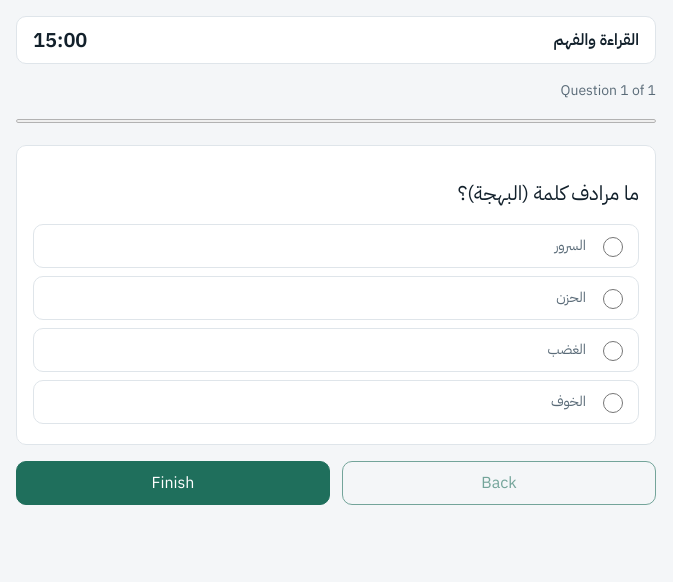
Test: answering › sends one save for a burst of taps, not one per tap
The image size is (673, 582).
// A student changing their mind twice before settling.
Step 1. Click the radio button labelled "الحزن" → (613, 299), box top-left (603, 289), bottom-right (623, 309)
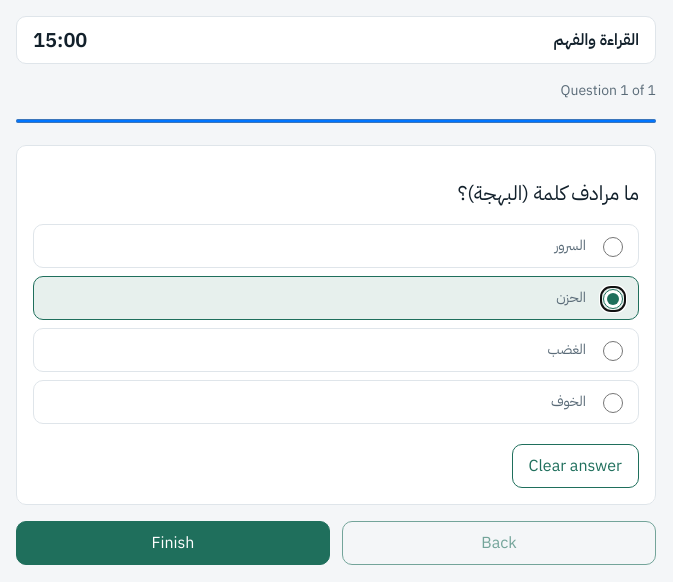
Step 2. Click the radio button labelled "الغضب" → (613, 351), box top-left (603, 341), bottom-right (623, 361)
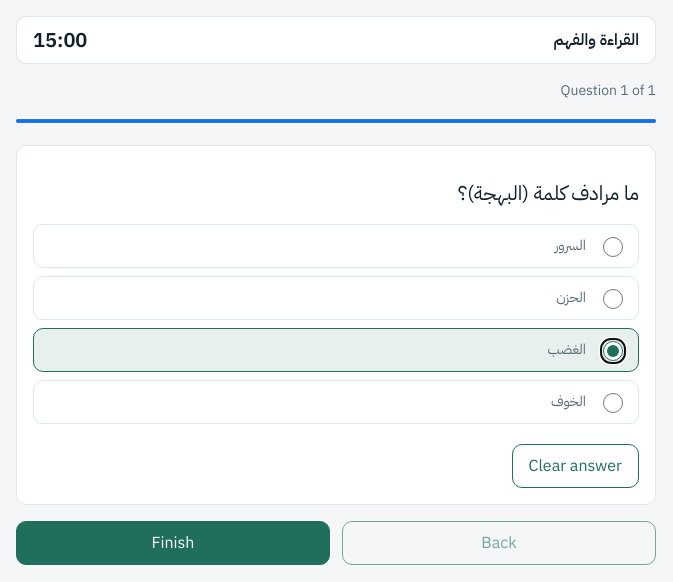
Step 3. Click the radio button labelled "السرور" → (613, 247), box top-left (603, 237), bottom-right (623, 257)
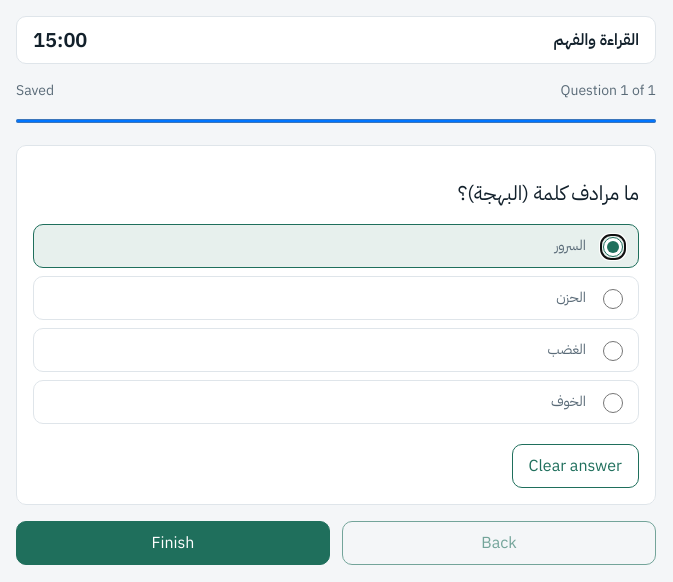
Check: the text "Saved" is shown, box top-left (16, 80), bottom-right (54, 101)
